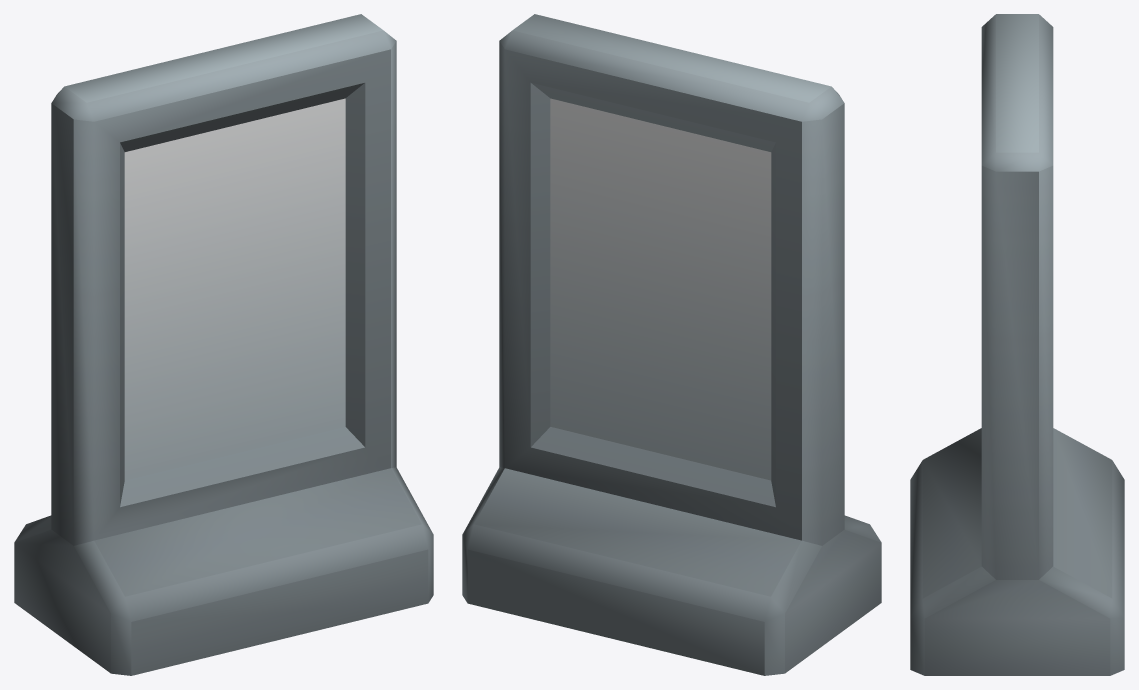
File: kay-menu.glb
3 renders of one model, left to right at view 1: azimuth 30°, elevation 25°; view 2: azimuth 150°, elevation 25°; view 3: azimuth 270°, elevation 25°, orthographic. The views are drawn at different scales.
Parts seen in each view (by area): view 1: menu; view 2: menu; view 3: menu.
Part boxes in pixels (x1,y1,x2,y2): menu: (14, 14, 433, 675); menu: (462, 14, 881, 675); menu: (910, 14, 1124, 675).
Size of the model in its own units: 0.1375 by 0.22 by 0.0825.
1 material, 1 textured.
